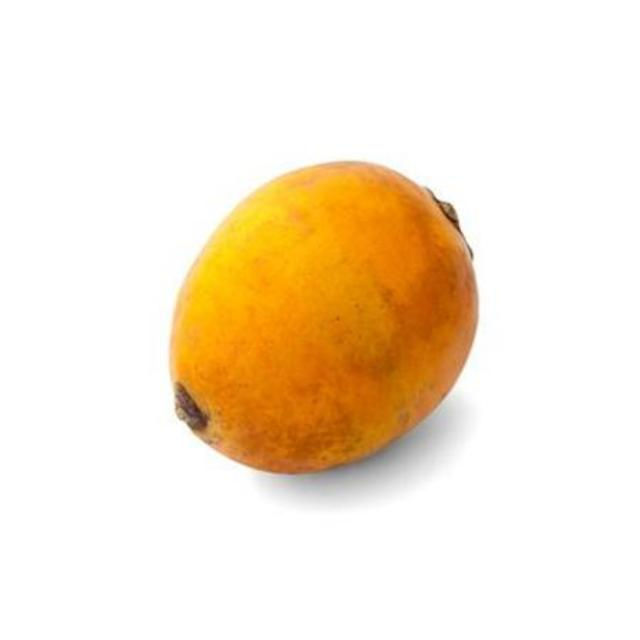good: (172, 162, 476, 471)
